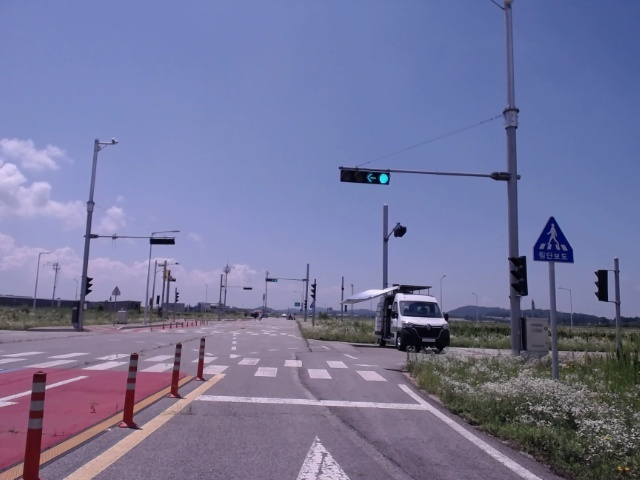all_green_4: (340, 170, 391, 188)
